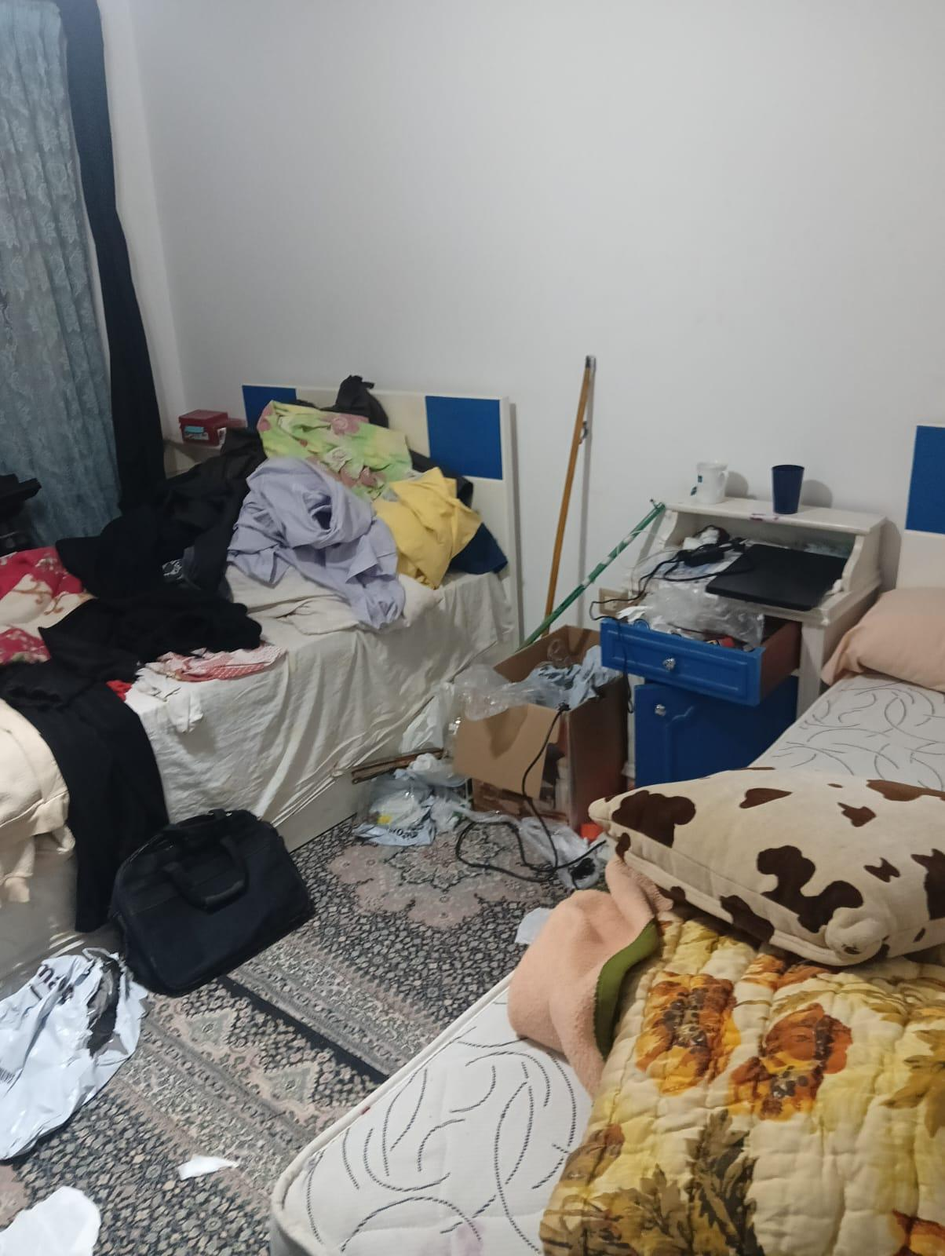cup: (772, 465, 805, 515), (695, 462, 727, 503)
